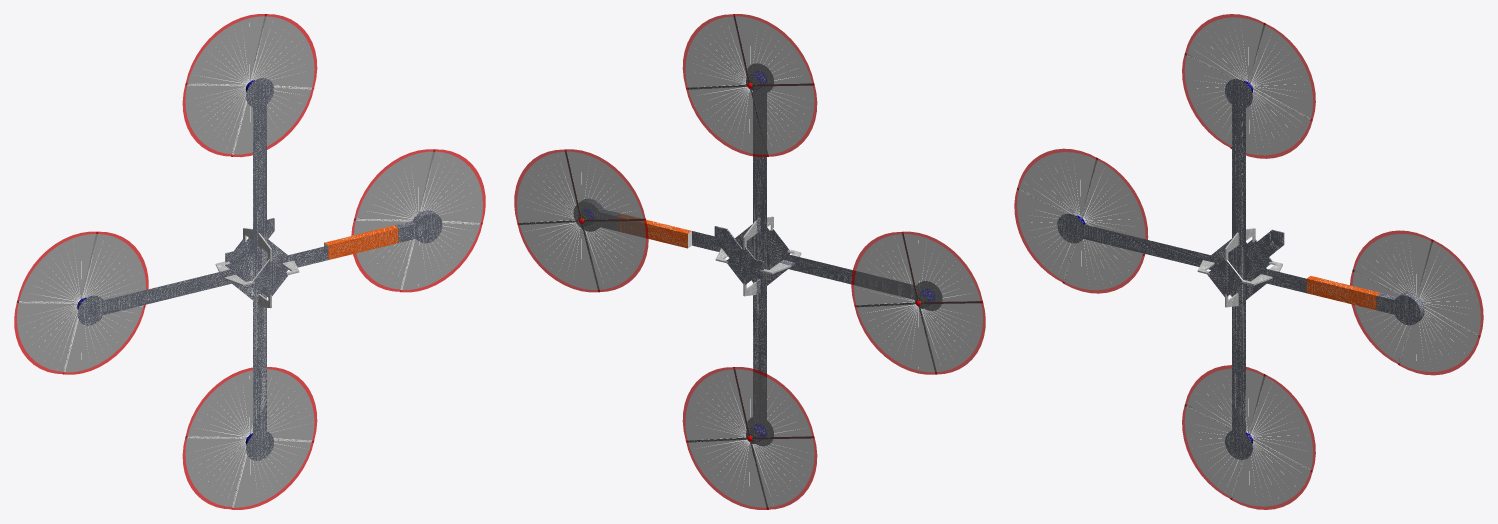
The model's file is quadrotor.dae.
The picture shows the model from 3 angles, left to right: view 1: azimuth 30°, elevation 25°; view 2: azimuth 150°, elevation 25°; view 3: azimuth 330°, elevation 25°; orthographic projection.
Visible parts, largest first — view 1: instance_0 (×4), instance_9 (×6), instance_3 (×6), instance_10 (×5), instance_8 (×5), instance_1, instance_2; view 2: instance_0 (×4), instance_9 (×6), instance_10 (×6), instance_3 (×6), instance_8 (×5), instance_2; view 3: instance_0 (×4), instance_9 (×5), instance_10 (×5), instance_3 (×5), instance_8 (×5), instance_2, instance_1.
Boxes of the visible parts, bbox=[...] form: instance_0 (×4): bbox=[77, 78, 442, 460]; instance_9 (×6): bbox=[182, 14, 317, 157]; instance_3 (×6): bbox=[351, 149, 485, 292]; instance_10 (×5): bbox=[182, 367, 317, 509]; instance_8 (×5): bbox=[14, 231, 148, 374]; instance_1: bbox=[251, 260, 287, 298]; instance_2: bbox=[225, 218, 274, 269]; instance_0 (×4): bbox=[573, 63, 942, 446]; instance_9 (×6): bbox=[682, 14, 817, 156]; instance_10 (×6): bbox=[682, 367, 817, 509]; instance_3 (×6): bbox=[514, 149, 648, 292]; instance_8 (×5): bbox=[851, 231, 985, 374]; instance_2: bbox=[714, 226, 763, 284]; instance_0 (×4): bbox=[1057, 79, 1424, 459]; instance_9 (×5): bbox=[1182, 14, 1315, 158]; instance_10 (×5): bbox=[1182, 365, 1315, 509]; instance_3 (×5): bbox=[1350, 230, 1483, 375]; instance_8 (×5): bbox=[1014, 148, 1148, 293]; instance_2: bbox=[1247, 229, 1284, 267]; instance_1: bbox=[1207, 259, 1243, 296].
Size of the model in its own units: 7.93 by 0.8268 by 7.93.
